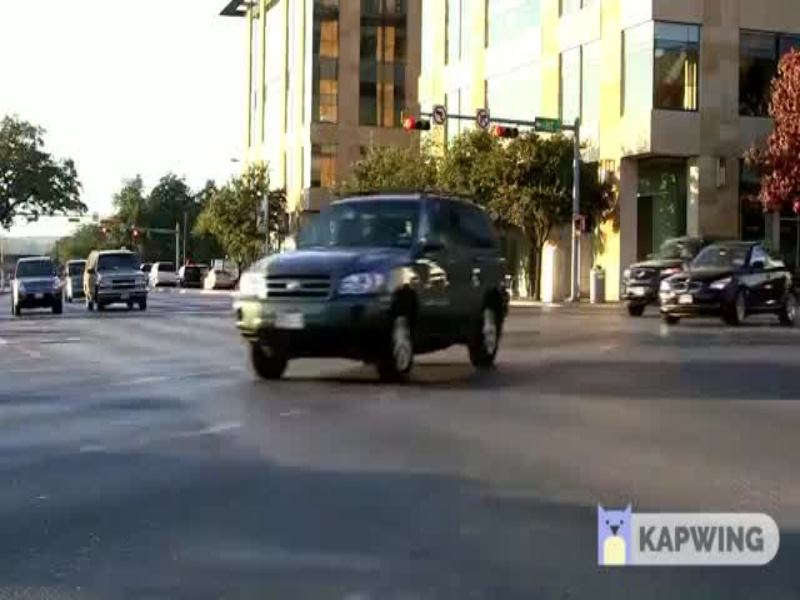car: (224, 189, 517, 390), (657, 238, 800, 321), (80, 250, 154, 310), (3, 255, 64, 322)
